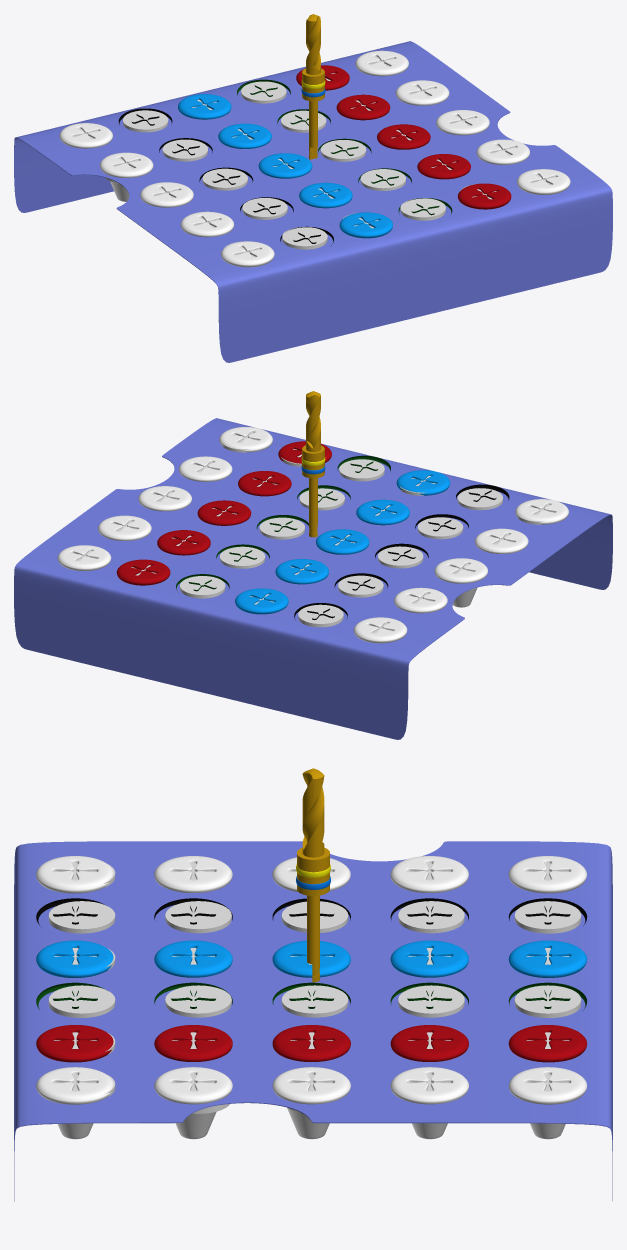
3 views of the same model, one above another, from view 1: azimuth 30°, elevation 25°; view 2: azimuth 150°, elevation 25°; view 3: azimuth 270°, elevation 25° (orthographic). The views are drawn at different scales.
Visible parts, largest first — view 1: Plane, Cylinder.002, Slot.002, Slot.015, Slot.025, Slot.005, Slot.030, Cube, Slot.013, Slot.027, Slot.011, Slot.026 (+12 smaller); view 2: Plane, Cylinder.002, Slot.003, Slot.001, Slot.011, Slot.021, Slot.026, Cube, Slot.023, Slot.022, Slot.029, Slot.013 (+12 smaller); view 3: Plane, Cylinder.002, Slot.029, Slot.028, Slot.026, Slot.027, Slot.030, Cube, Slot.001, Slot.011, Slot.021, Slot.014 (+12 smaller).
Boxes of the visible parts, x1,y1,x2,y2 form: Plane: (14,41,612,362); Cylinder.002: (73,56,555,257); Slot.002: (99,152,153,201); Slot.015: (339,212,392,238); Slot.025: (457,183,511,209); Slot.005: (221,241,274,267); Slot.030: (517,169,570,194); Cube: (302,14,324,84); Slot.013: (258,153,312,178); Slot.027: (395,80,449,105); Slot.011: (178,94,231,119); Slot.026: (355,50,408,76); Plane: (14,418,612,739); Cylinder.002: (72,432,554,633); Slot.003: (434,558,487,607); Slot.001: (353,617,407,643); Slot.011: (235,588,288,614); Slot.021: (116,559,170,585); Slot.026: (57,545,111,570); Cube: (302,391,324,461); Slot.023: (197,500,251,525); Slot.022: (157,530,210,555); Slot.029: (179,456,232,481); Slot.013: (316,529,369,554); Plane: (14,841,612,1201); Cylinder.002: (48,863,581,1113); Slot.029: (154,1067,232,1139); Slot.028: (272,1067,350,1139); Slot.026: (508,1067,587,1139); Slot.027: (390,1067,468,1139); Slot.030: (36,1067,113,1139); Cube: (297,768,329,871); Slot.001: (508,856,586,893); Slot.011: (508,940,587,977); Slot.021: (508,1025,587,1062); Slot.014: (154,940,232,977).
Bounding box in the file's own units: 0.1 × 0.0554 × 0.09.
